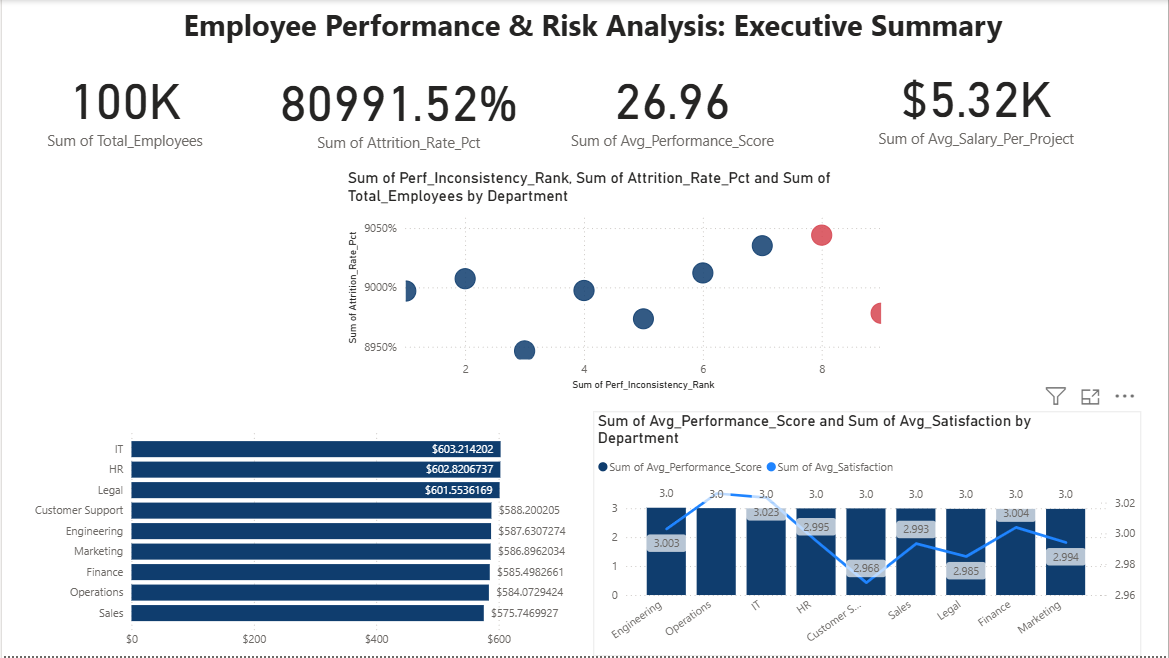

Layout of this report page (visuals, bound fields, positions):
{"tool":"powerbi","page":{"name":"Page 1","canvas":[1280,720],"ordinal":0},"visuals":[{"type":"scatterChart","fields":{"X":["Sum(Final_department_KPi.Perf_Inconsistency_Rank)"],"Y":["Sum(Final_department_KPi.Attrition_Rate_Pct)"],"Size":["Sum(Final_department_KPi.Total_Employees)"],"Category":["Final_department_KPi.Department"]},"box":[374.6,185.2,599.7,248.4],"z":0},{"type":"clusteredBarChart","fields":{"Category":["Final_department_KPi.Department"],"Y":["Sum(Final_department_KPi.Avg_Salary_Per_Project)"]},"box":[23.3,462.4,616.1,258],"z":1000},{"type":"lineClusteredColumnComboChart","fields":{"Category":["Final_department_KPi.Department"],"Y":["Sum(Final_department_KPi.Avg_Performance_Score)"],"Y2":["Sum(Final_department_KPi.Avg_Satisfaction)"]},"box":[649.1,451.5,601,269],"z":2000},{"type":"card","fields":{"Values":["Sum(Final_department_KPi.Total_Employees)"]},"box":[0,60.4,270.3,109.8],"z":3000},{"type":"card","fields":{"Values":["Sum(Final_department_KPi.Avg_Performance_Score)"]},"box":[601,60.4,270.3,109.8],"z":4000},{"type":"card","fields":{"Values":["Sum(Final_department_KPi.Attrition_Rate_Pct)"]},"box":[270.3,64.5,330.7,105.7],"z":5000},{"type":"card","fields":{"Values":["Sum(Final_department_KPi.Avg_Salary_Per_Project)"]},"box":[904.3,60.4,330.7,105.7],"z":6000},{"type":"textbox","box":[0,0,1235,60.4],"z":7000}]}

Visuals, with their boxes in screenshot pixels (x1, y1, x2, y2), scaled from the page's 1280x720 canvas onto the 1169x658 screenshot:
scatterChart - Sum(Final_department_KPi.Perf_Inconsistency_Rank) x Sum(Final_department_KPi.Attrition_Rate_Pct): (left=342, top=169, right=890, bottom=396)
clusteredBarChart - Final_department_KPi.Department x Sum(Final_department_KPi.Avg_Salary_Per_Project): (left=21, top=423, right=584, bottom=657)
lineClusteredColumnComboChart - Final_department_KPi.Department x Sum(Final_department_KPi.Avg_Performance_Score): (left=593, top=413, right=1142, bottom=657)
card - Sum(Final_department_KPi.Total_Employees): (left=0, top=55, right=247, bottom=156)
card - Sum(Final_department_KPi.Avg_Performance_Score): (left=549, top=55, right=796, bottom=156)
card - Sum(Final_department_KPi.Attrition_Rate_Pct): (left=247, top=59, right=549, bottom=156)
card - Sum(Final_department_KPi.Avg_Salary_Per_Project): (left=826, top=55, right=1128, bottom=152)
textbox: (left=0, top=0, right=1128, bottom=55)
